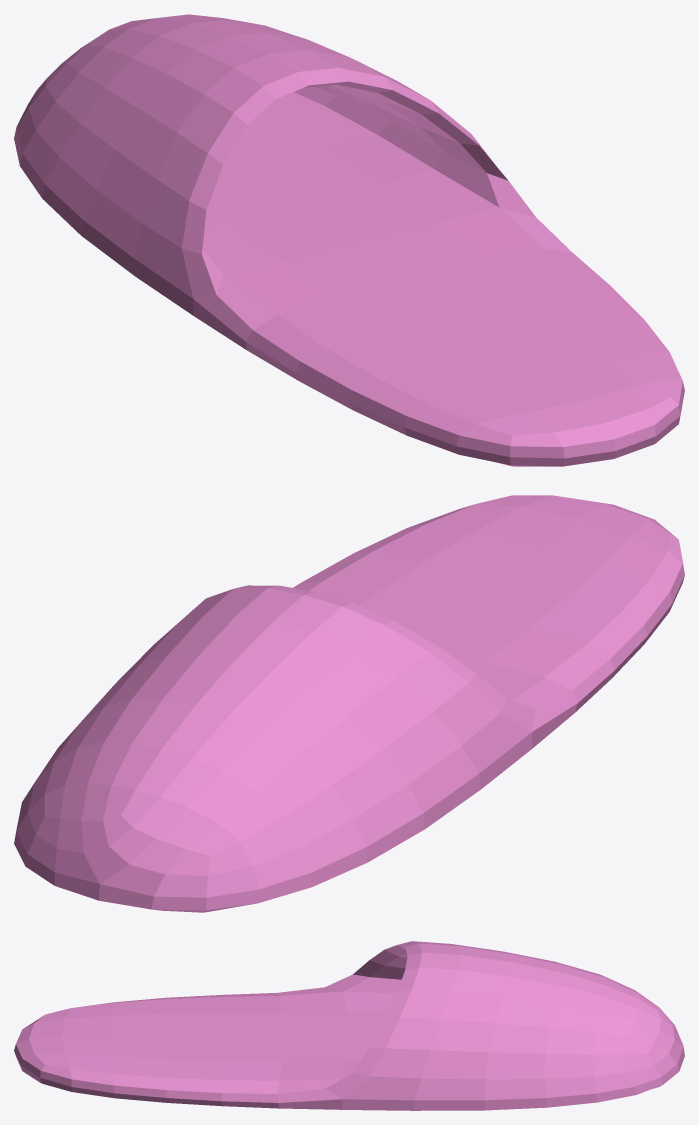
Rendered from slipper1.fbx.
3 renders of one model, top to bottom at view 1: azimuth 30°, elevation 25°; view 2: azimuth 150°, elevation 25°; view 3: azimuth 270°, elevation 25°, orthographic. The views are drawn at different scales.
Visible parts, largest first — view 1: Slipper1Simple; view 2: Slipper1Simple; view 3: Slipper1Simple.
Part boxes in pixels (left/top/right/bottom): Slipper1Simple: left=14, top=14, right=684, bottom=466; Slipper1Simple: left=14, top=495, right=684, bottom=912; Slipper1Simple: left=14, top=941, right=684, bottom=1110.
Bounding box in the file's own units: 44.27 × 20.47 × 114.
